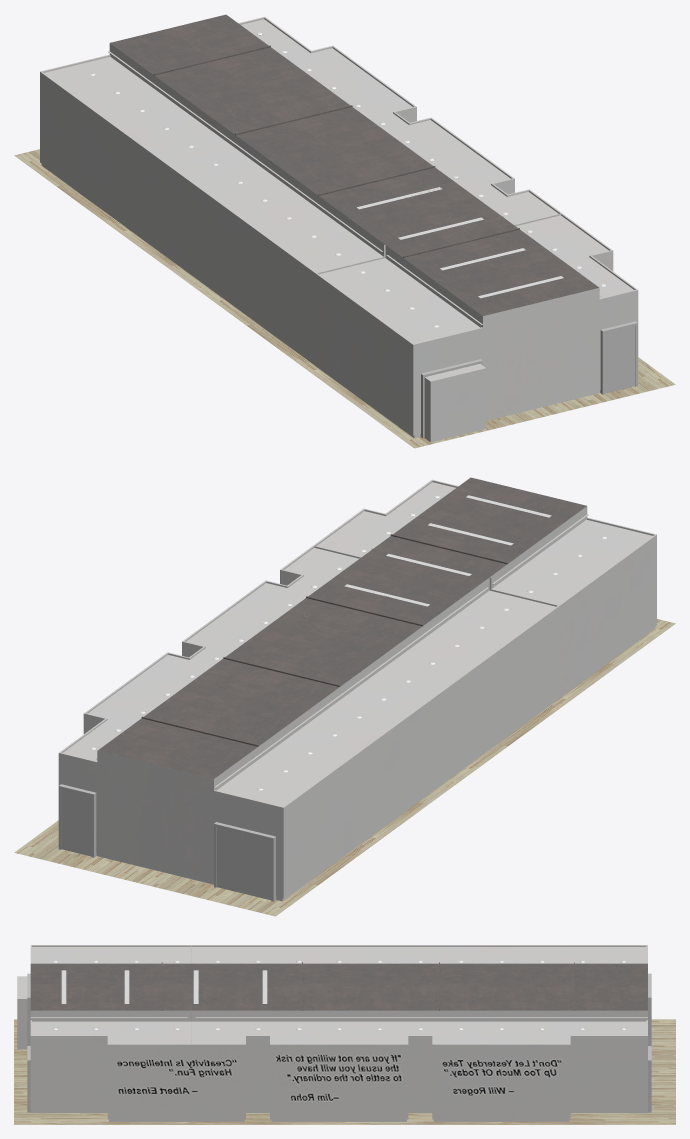
Rendered from SquareMeeting.glb.
The picture shows the model from 3 angles, top to bottom: view 1: azimuth 30°, elevation 25°; view 2: azimuth 150°, elevation 25°; view 3: azimuth 270°, elevation 25°; orthographic projection. The views are drawn at different scales.
Parts seen in each view (by area): view 1: AI53_006:AI53_006_Wall_White1, AI53_006:AI53_006_Celing_Center, AI53_006:AI53_006_Floor, AI53_006:AI53_006_Door_V2_003, AI53_006:AI53_006_Floor_Ledge, AI53_006:AI53_006_Lamp_V1_010; view 2: AI53_006:AI53_006_Wall_White1, AI53_006:AI53_006_Celing_Center, AI53_006:AI53_006_Floor, AI53_006:AI53_006_Door_V2_004, AI53_006:AI53_006_Floor_Ledge, AI53_006:AI53_006_Lamp_V1_010; view 3: AI53_006:AI53_006_Wall_White1, AI53_006:AI53_006_Wall_Text, AI53_006:AI53_006_Celing_Center, AI53_006:AI53_006_Floor, AI53_006:AI53_006_Floor_Ledge, AI53_006:AI53_006_Lamp_V1_010, AI53_006:AI53_006_Door_V2_004, AI53_006:AI53_006_Door_V2_003, AI53_006:AI53_006_Lamp_V2_031.
Part boxes in pixels (x1,y1,x2,y2): AI53_006:AI53_006_Wall_White1: [40, 16, 638, 442]; AI53_006:AI53_006_Celing_Center: [110, 14, 599, 315]; AI53_006:AI53_006_Floor: [14, 149, 675, 448]; AI53_006:AI53_006_Door_V2_003: [420, 321, 637, 438]; AI53_006:AI53_006_Floor_Ledge: [41, 164, 600, 438]; AI53_006:AI53_006_Lamp_V1_010: [357, 187, 563, 298]; AI53_006:AI53_006_Wall_White1: [58, 479, 656, 898]; AI53_006:AI53_006_Celing_Center: [97, 477, 586, 778]; AI53_006:AI53_006_Floor: [14, 619, 675, 916]; AI53_006:AI53_006_Door_V2_004: [58, 784, 276, 901]; AI53_006:AI53_006_Floor_Ledge: [96, 627, 655, 901]; AI53_006:AI53_006_Lamp_V1_010: [344, 495, 551, 606]; AI53_006:AI53_006_Wall_White1: [17, 945, 647, 1110]; AI53_006:AI53_006_Wall_Text: [107, 1044, 570, 1119]; AI53_006:AI53_006_Celing_Center: [30, 962, 647, 1010]; AI53_006:AI53_006_Floor: [14, 1019, 675, 1124]; AI53_006:AI53_006_Floor_Ledge: [31, 1111, 647, 1121]; AI53_006:AI53_006_Lamp_V1_010: [61, 970, 267, 1003]; AI53_006:AI53_006_Door_V2_004: [647, 973, 651, 1112]; AI53_006:AI53_006_Door_V2_003: [27, 973, 30, 1112]; AI53_006:AI53_006_Lamp_V2_031: [53, 960, 625, 1029].
Bounding box in the file's own units: 1035 × 405 × 2743.
Materials: 8 (7 with a texture image).
